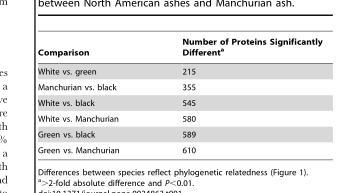table: (37, 37, 321, 154)
table column: (149, 37, 321, 154), (37, 37, 149, 154)
table column header: (37, 37, 321, 61)
table row: (37, 37, 321, 61), (37, 61, 321, 79), (37, 94, 321, 110), (37, 110, 321, 126), (37, 126, 321, 142), (37, 79, 321, 94), (37, 142, 321, 154)
